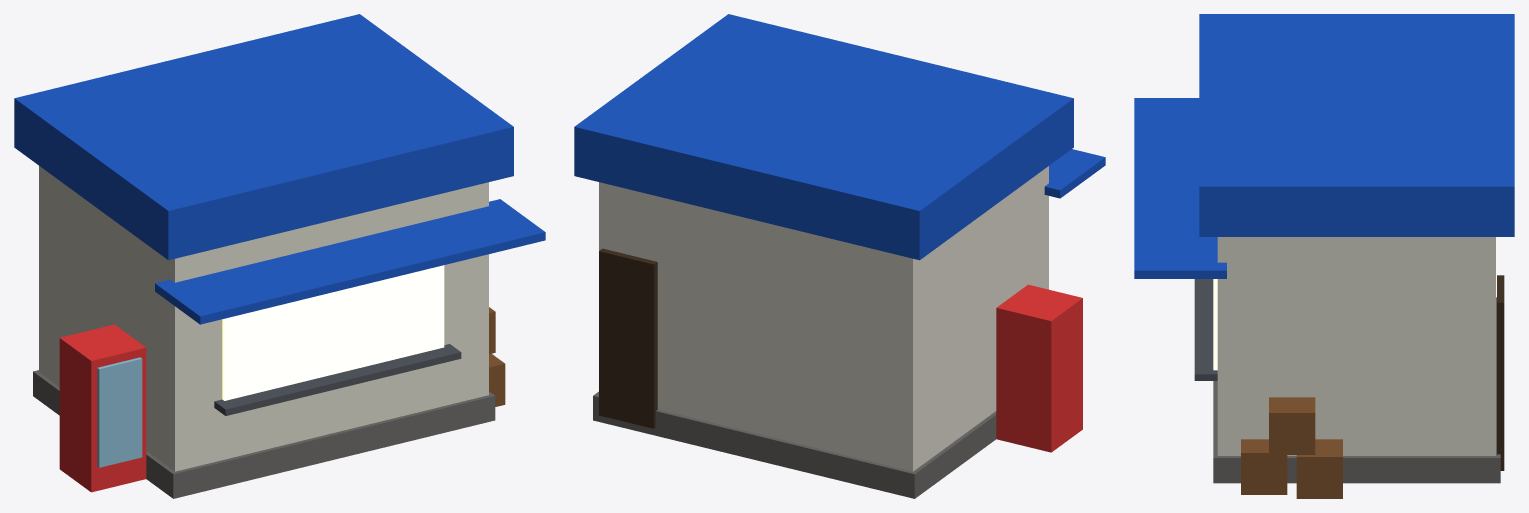
Rendered from kiosk.glb.
3 renders of one model, left to right at view 1: azimuth 30°, elevation 25°; view 2: azimuth 150°, elevation 25°; view 3: azimuth 270°, elevation 25°, orthographic. The views are drawn at different scales.
Visible parts, largest first — view 1: kiosk; view 2: kiosk; view 3: kiosk.
Part boxes in pixels (x1,y1,x2,y2): kiosk: (14,14,545,498); kiosk: (574,14,1105,498); kiosk: (1134,14,1514,498).
Bounding box in the file's own units: 5.2 × 3.6 × 4.1.
